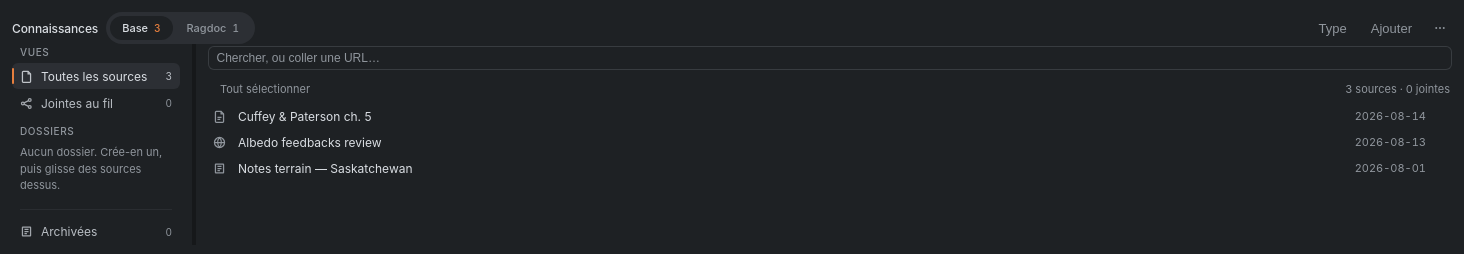
Test: KbSurface › dit quand la recherche ne donne rien
The width and height of the screenshot is (1464, 254).
Type "zzzz" into the field with placeholder "Chercher, ou coller une URL…".
click(830, 58); type("zzzz")  # box [208,46,1452,70]
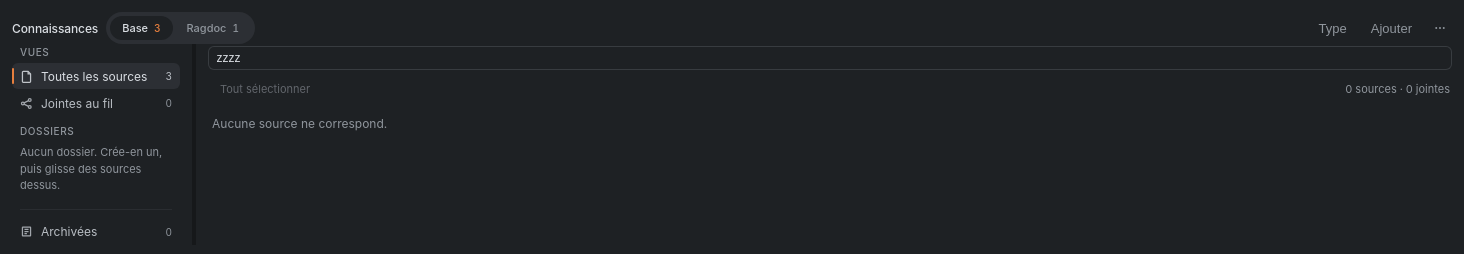
Expected: the text "Aucune source ne correspond." is shown, [212,116,387,131]
